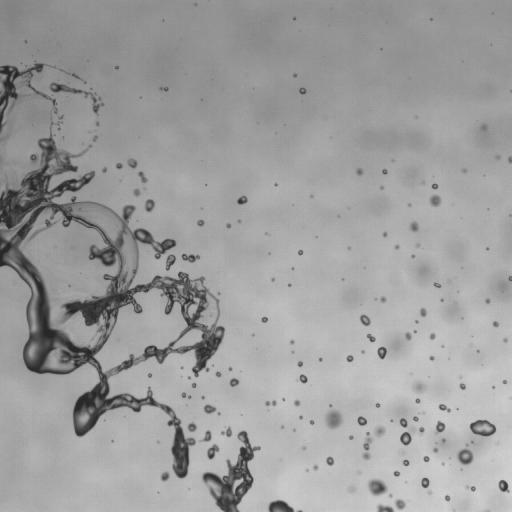droplet: (201, 430, 260, 511), (0, 62, 57, 141), (400, 418, 424, 445), (469, 419, 495, 436), (325, 407, 343, 428), (368, 478, 387, 495), (457, 446, 473, 465), (412, 380, 426, 393), (207, 444, 219, 459), (165, 254, 176, 270), (144, 199, 155, 212), (429, 195, 441, 206), (435, 420, 445, 433), (374, 426, 385, 437), (200, 430, 211, 441), (360, 314, 370, 326), (498, 480, 508, 492), (377, 346, 386, 359), (221, 427, 232, 437), (395, 499, 405, 510), (204, 404, 216, 413), (127, 158, 137, 168), (438, 404, 450, 412), (160, 471, 169, 481), (298, 374, 307, 383), (357, 416, 366, 425), (187, 422, 196, 431), (237, 196, 247, 204), (410, 221, 418, 231), (421, 477, 429, 487), (229, 378, 238, 386), (326, 457, 334, 465), (367, 334, 375, 341), (133, 189, 140, 196), (420, 308, 426, 316), (405, 332, 411, 340), (299, 88, 306, 94), (356, 168, 362, 175), (197, 220, 204, 226), (346, 355, 353, 361), (348, 486, 355, 492), (444, 494, 450, 501), (116, 163, 122, 169), (380, 296, 386, 302), (261, 316, 267, 322), (429, 333, 435, 339), (459, 383, 465, 389), (294, 400, 300, 406), (481, 124, 487, 129), (432, 184, 438, 189), (493, 321, 498, 327), (297, 361, 302, 367), (215, 371, 221, 376), (423, 456, 429, 461), (403, 460, 409, 465), (393, 471, 399, 476), (382, 169, 387, 174), (415, 398, 420, 403), (413, 416, 418, 421), (313, 465, 318, 470), (434, 283, 440, 287), (160, 87, 167, 90), (508, 156, 511, 163), (102, 167, 106, 172), (226, 223, 230, 228), (382, 232, 387, 236), (485, 299, 490, 303), (290, 339, 294, 344), (429, 356, 434, 360), (433, 448, 438, 452), (93, 136, 97, 140), (462, 168, 466, 172), (395, 245, 399, 249), (298, 250, 302, 254), (503, 338, 507, 342), (192, 383, 196, 387), (376, 403, 380, 407), (309, 420, 313, 424), (349, 435, 353, 439), (508, 276, 511, 281), (182, 392, 185, 397), (32, 112, 36, 115), (148, 373, 151, 377), (96, 122, 99, 125), (496, 155, 499, 158), (380, 186, 383, 189), (416, 244, 419, 247), (411, 254, 414, 257), (319, 358, 322, 361), (228, 367, 231, 370), (503, 380, 506, 383), (299, 416, 302, 419), (302, 446, 305, 449), (428, 491, 431, 494), (293, 74, 296, 76), (271, 278, 274, 280), (414, 330, 416, 333), (92, 336, 94, 339), (201, 396, 204, 398), (442, 439, 445, 441), (357, 471, 360, 473), (115, 67, 117, 69), (30, 123, 32, 125), (3, 177, 5, 179), (275, 183, 277, 185), (238, 220, 240, 222), (362, 351, 364, 353), (188, 376, 190, 378), (282, 398, 284, 400), (389, 495, 391, 497)
ligament: (0, 133, 224, 478), (49, 82, 103, 114), (268, 499, 301, 511), (362, 432, 373, 459), (181, 253, 199, 262), (50, 116, 62, 127), (376, 504, 394, 511), (138, 171, 147, 183), (265, 400, 276, 405), (465, 486, 475, 491), (0, 156, 4, 168), (72, 74, 79, 78), (484, 509, 490, 511)
